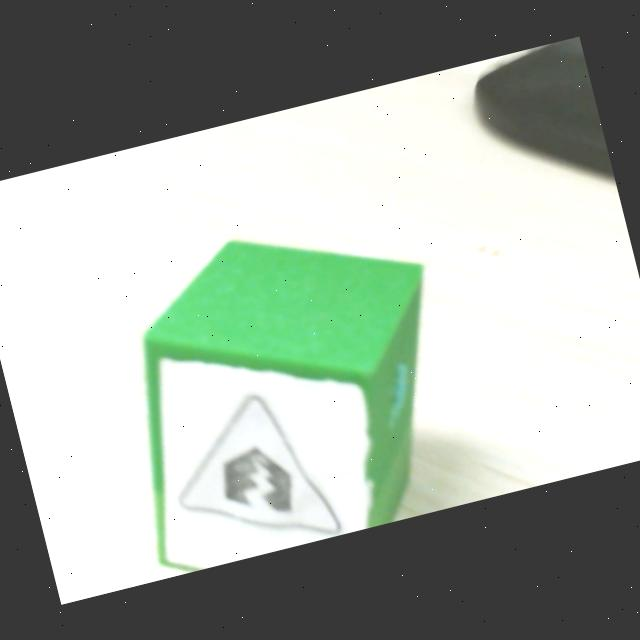Earthquake: (158, 382, 334, 552), (177, 395, 350, 544)
